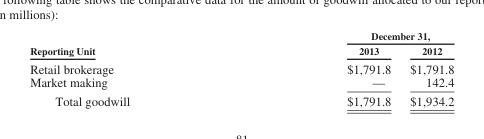table: (29, 29, 453, 107)
table column: (29, 29, 237, 107), (237, 29, 399, 107), (399, 29, 453, 107)
table column header: (29, 29, 453, 58)
table row: (29, 58, 453, 75), (29, 42, 453, 58), (29, 75, 453, 91), (29, 91, 453, 107), (29, 29, 453, 42)
table spanning cell: (29, 29, 237, 58), (237, 29, 453, 42)
